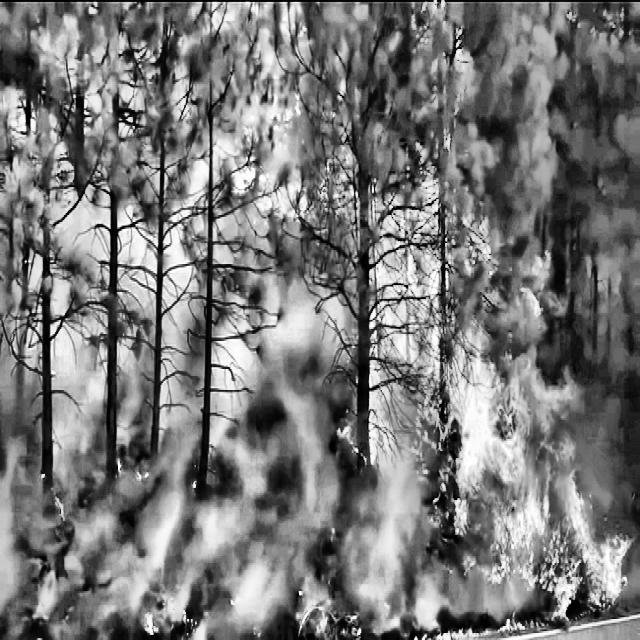fire: (251, 116, 628, 621)
